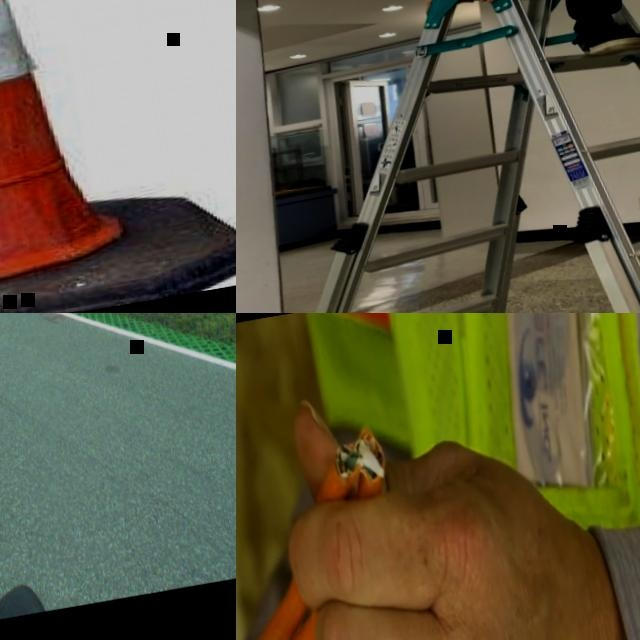Person: (236, 313, 640, 640), (272, 0, 640, 160)
Safety Cone: (0, 0, 236, 313)
Safety Vest: (306, 313, 640, 577)
